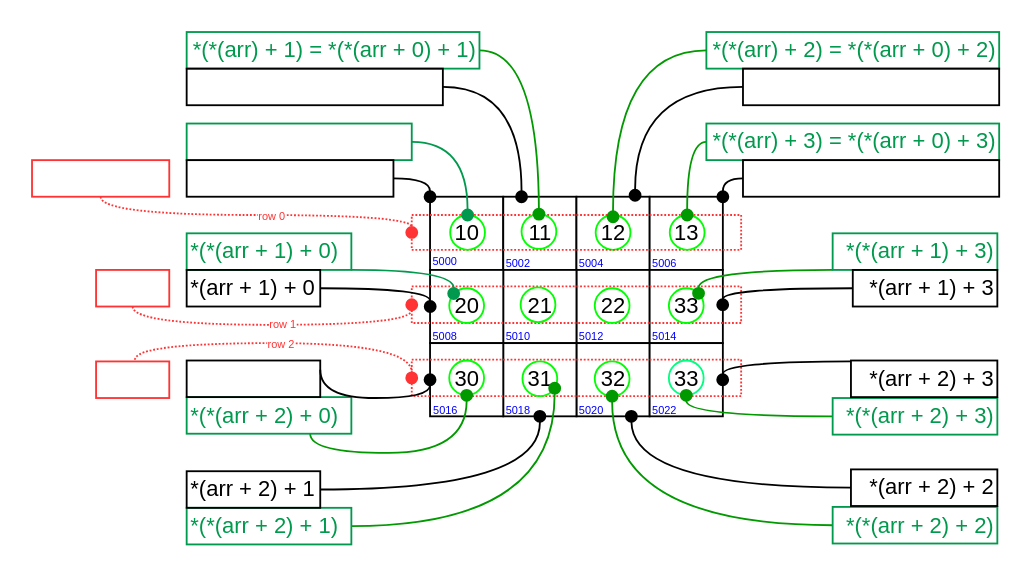
Image size: 1032x576. Some labels were removed from this diagram. Here are the shapes that lost their labels. From the top down, the centre of each, then its label:
At pixel 314 86: "*(arr) + 1 = *(arr + 0) + 1".
At pixel 870 86: "*(arr) + 2 = *(arr + 0) + 2".
At pixel 298 141: "**arr = *(*(arr + 0) + 0)".
At pixel 99 177: "arr = arr + 0".
At pixel 289 177: "*arr = *(arr + 0) + 0".
At pixel 870 177: "*(arr) + 3 = *(arr + 0) + 3".
At pixel 131 287: "arr + 1".
At pixel 131 379: "arr + 2".
At pixel 252 378: "*(arr + 2) + 0".
